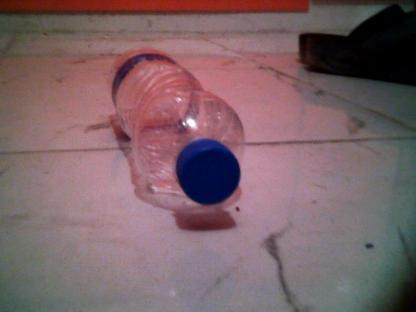Plastic Bottle: (108, 51, 246, 215)
